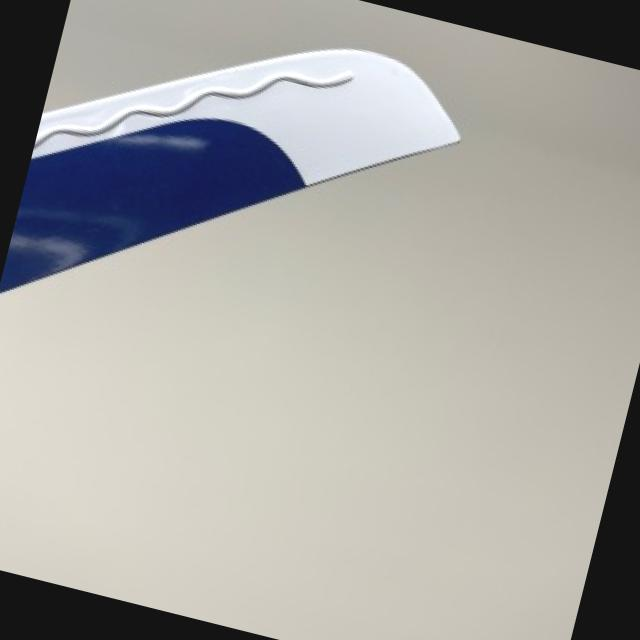healthy: (0, 47, 460, 291)
